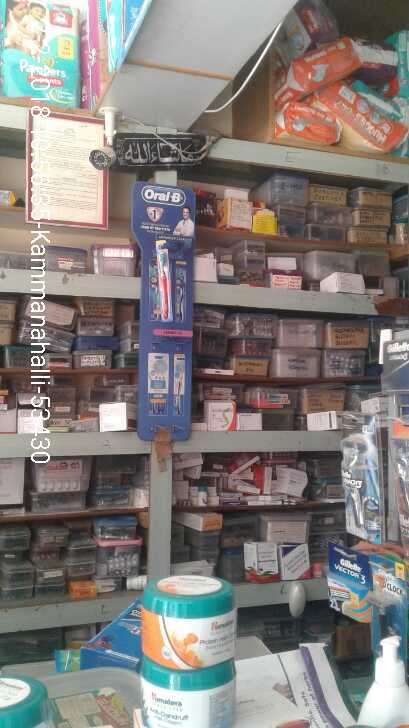beauty: (344, 416, 381, 539), (323, 546, 370, 625)
pharmacy: (6, 5, 82, 103), (149, 227, 178, 329)
